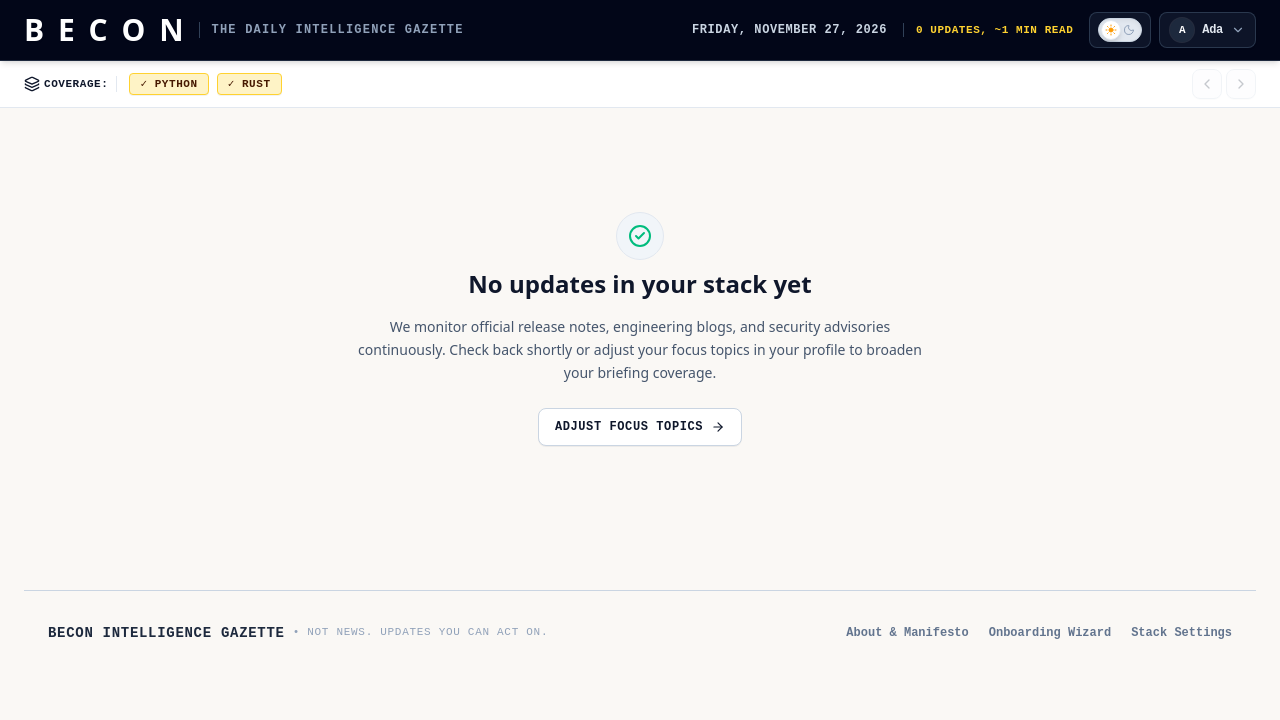
Test: Home (/) single header ThemeToggle & coverage ribbon layout (Task 1.10b) › flips dark/light mode and persists becon_theme in localStorage when toggled in the header
// Toggle to dark
Click the switch: (1120, 30) [1098, 18, 1142, 42]
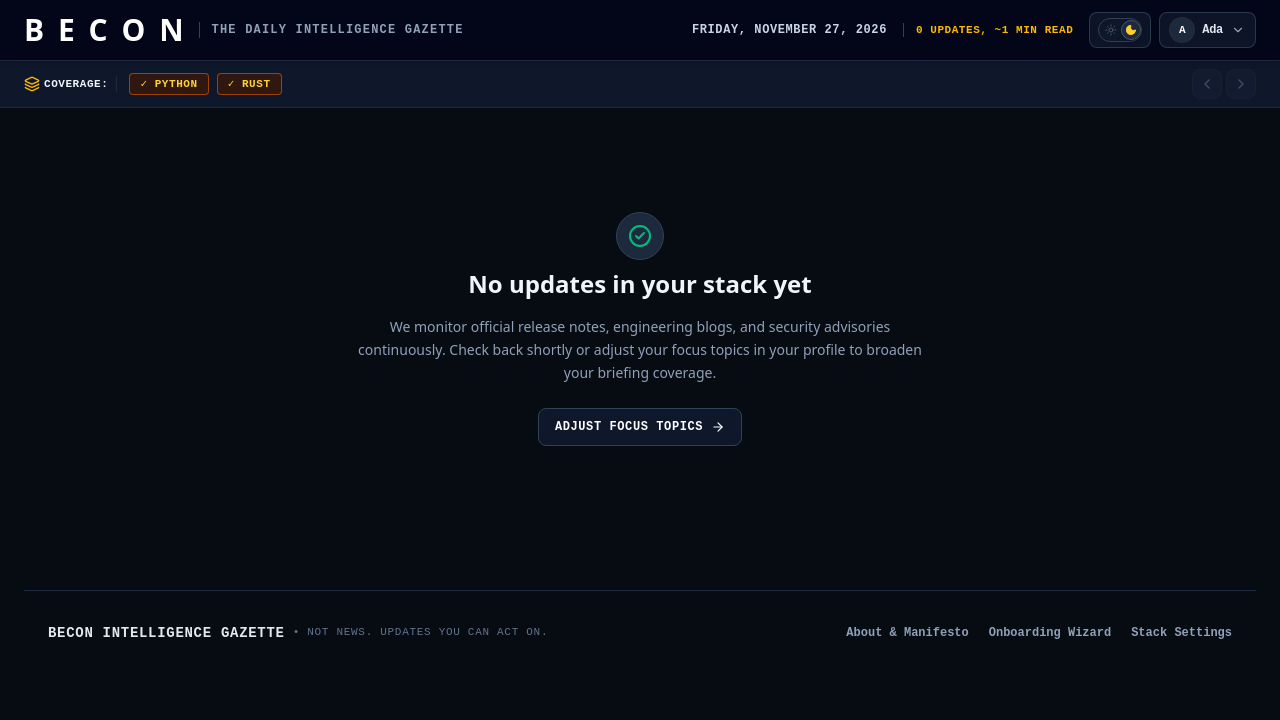
expect the switch is checked: met
// Toggle back to light
Click the switch: (1120, 30) [1098, 18, 1142, 42]
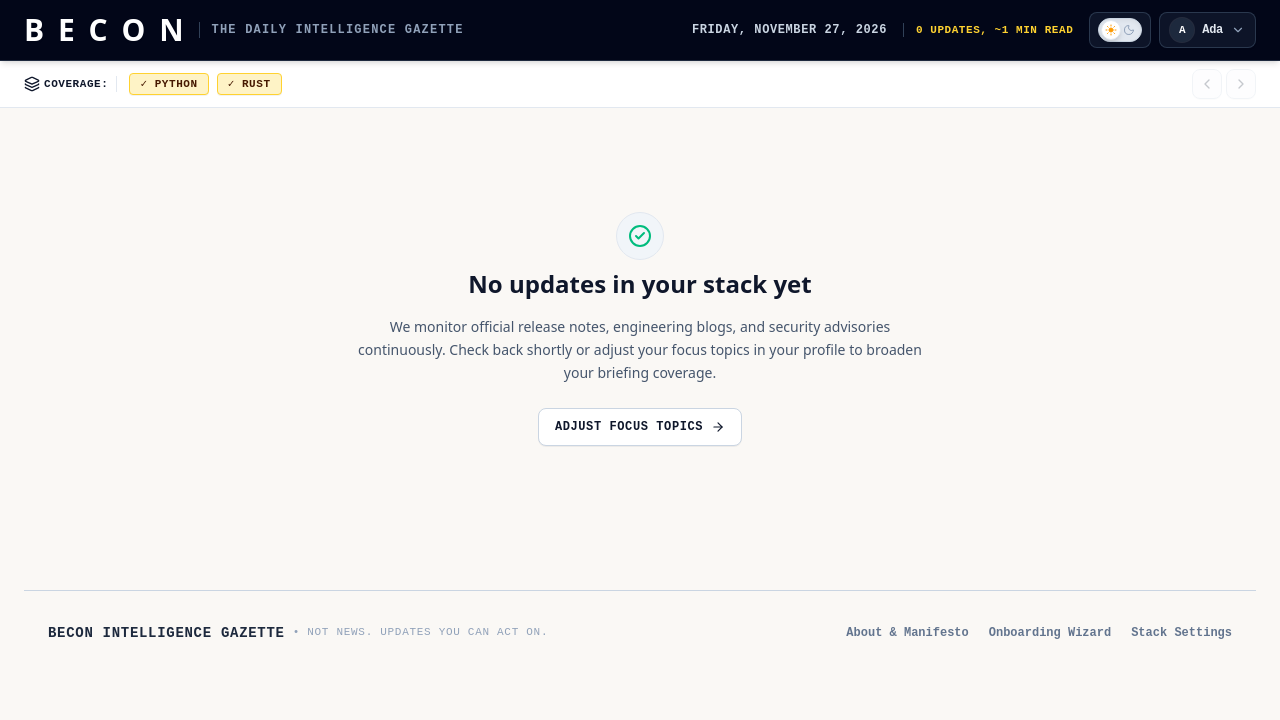
expect the switch is not checked: met, box [1098, 18, 1142, 42]
